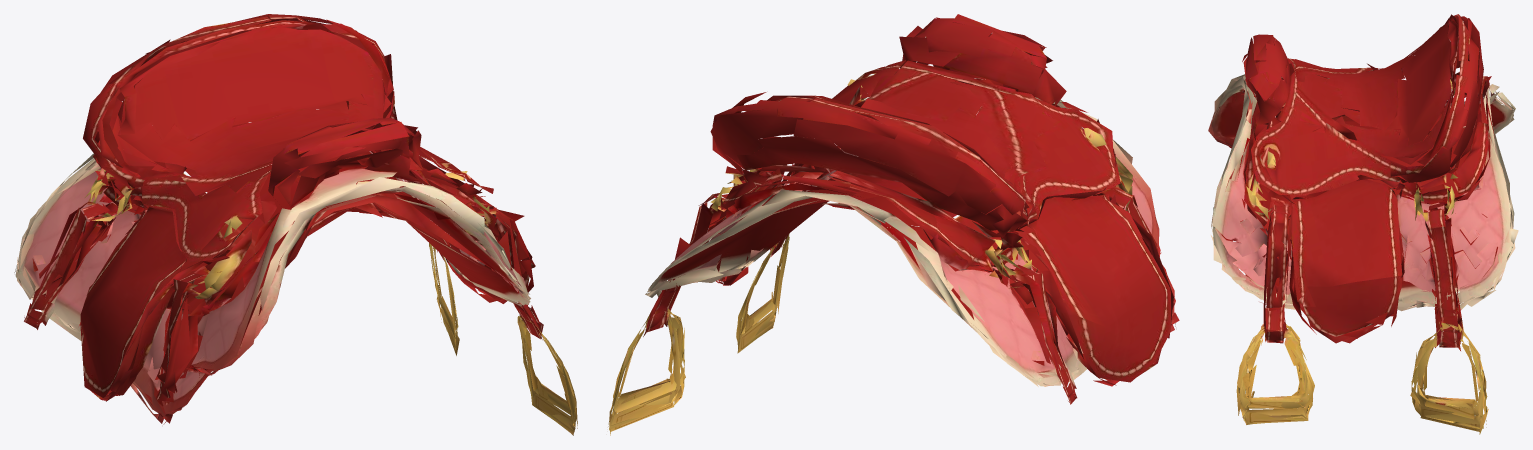
3 renders of one model, left to right at view 1: azimuth 30°, elevation 25°; view 2: azimuth 150°, elevation 25°; view 3: azimuth 270°, elevation 25°, orthographic. The views are drawn at different scales.
Parts seen in each view (by area): view 1: saddle-red; view 2: saddle-red; view 3: saddle-red.
Boxes of the visible parts, x1,y1,x2,y2 form: saddle-red: (14, 14, 577, 435); saddle-red: (608, 14, 1179, 435); saddle-red: (1208, 14, 1518, 434).
Bounding box in the file's own units: 0.3056 × 0.2446 × 0.2277.
1 material, 1 textured.
